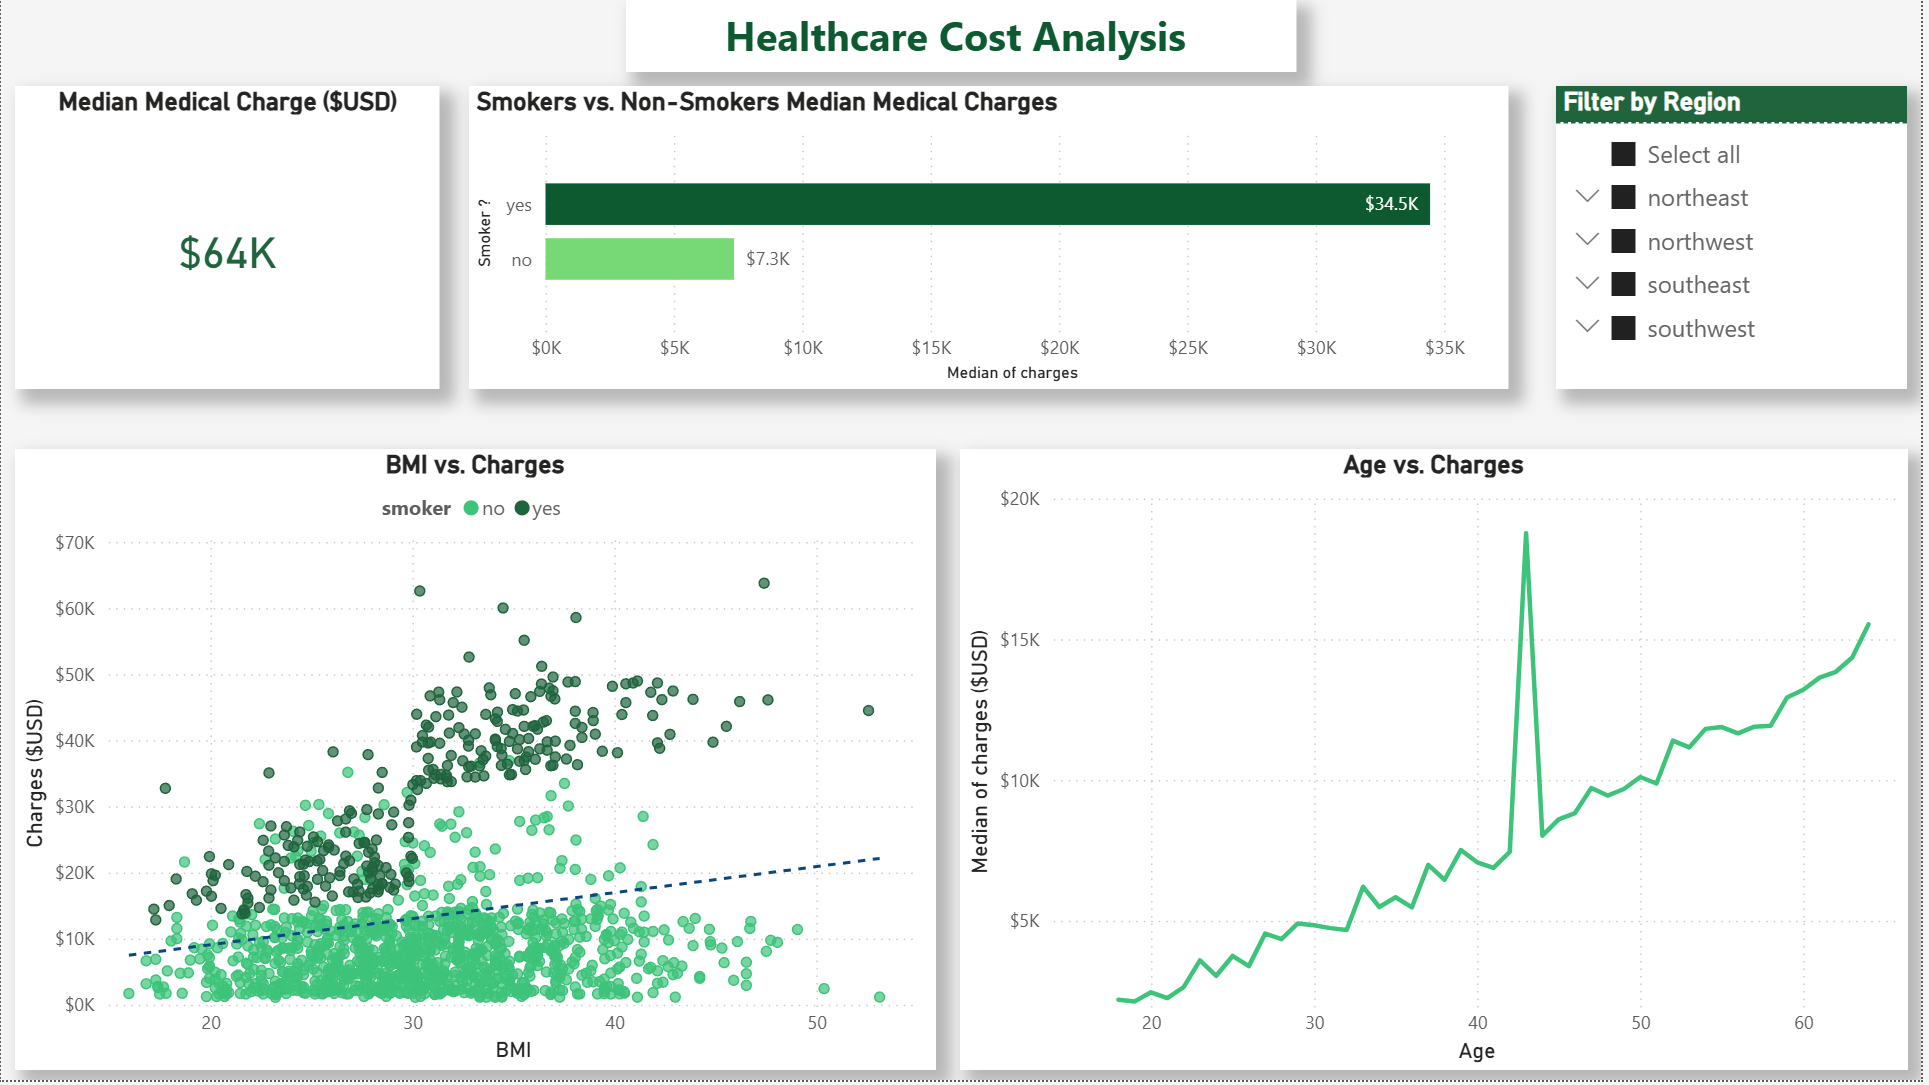

The page's visual inventory and layout, read from the dashboard file:
{"tool":"powerbi","page":{"name":"Healthcare","canvas":[1280,720],"ordinal":0},"visuals":[{"type":"textbox","box":[416.9,0,446.6,47.6],"z":0},{"type":"kpi","title":"Median Medical Charge ($USD)","fields":{"Indicator":["Median(insurance.charges)"],"TrendLine":["insurance.charges"]},"box":[9.3,57.5,283.3,201.6],"z":1000},{"type":"clusteredBarChart","title":"Smokers vs. Non-Smokers Median Medical Charges","fields":{"Category":["insurance.smoker"],"Y":["Median(insurance.charges)"]},"box":[311.8,57.5,692.8,201.6],"z":2000},{"type":"scatterChart","title":"BMI vs. Charges","fields":{"X":["insurance.bmi"],"Y":["insurance.charges"],"Series":["insurance.smoker"]},"box":[9.3,299.4,613.6,413.8],"z":3000},{"type":"lineChart","title":"Age vs. Charges","fields":{"Y":["Median(insurance.charges)"],"Category":["insurance.age"]},"box":[639.6,299.4,631.5,413.8],"z":4000},{"type":"slicer","title":"Filter by Region","fields":{"Values":["insurance.region","insurance.smoker"]},"box":[1036.7,57.5,234.4,201.6],"z":4001}]}

Visuals, with their boxes in screenshot pixels (x1, y1, x2, y2), scaled from the page's 1280x720 canvas onto the 1929x1085 screenshot:
textbox: 628 0 1301 72
"Median Medical Charge ($USD)" kpi: 14 87 441 390
"Smokers vs. Non-Smokers Median Medical Charges" clusteredBarChart: 470 87 1514 390
"BMI vs. Charges" scatterChart: 14 451 939 1075
"Age vs. Charges" lineChart: 964 451 1916 1075
"Filter by Region" slicer: 1562 87 1916 390
